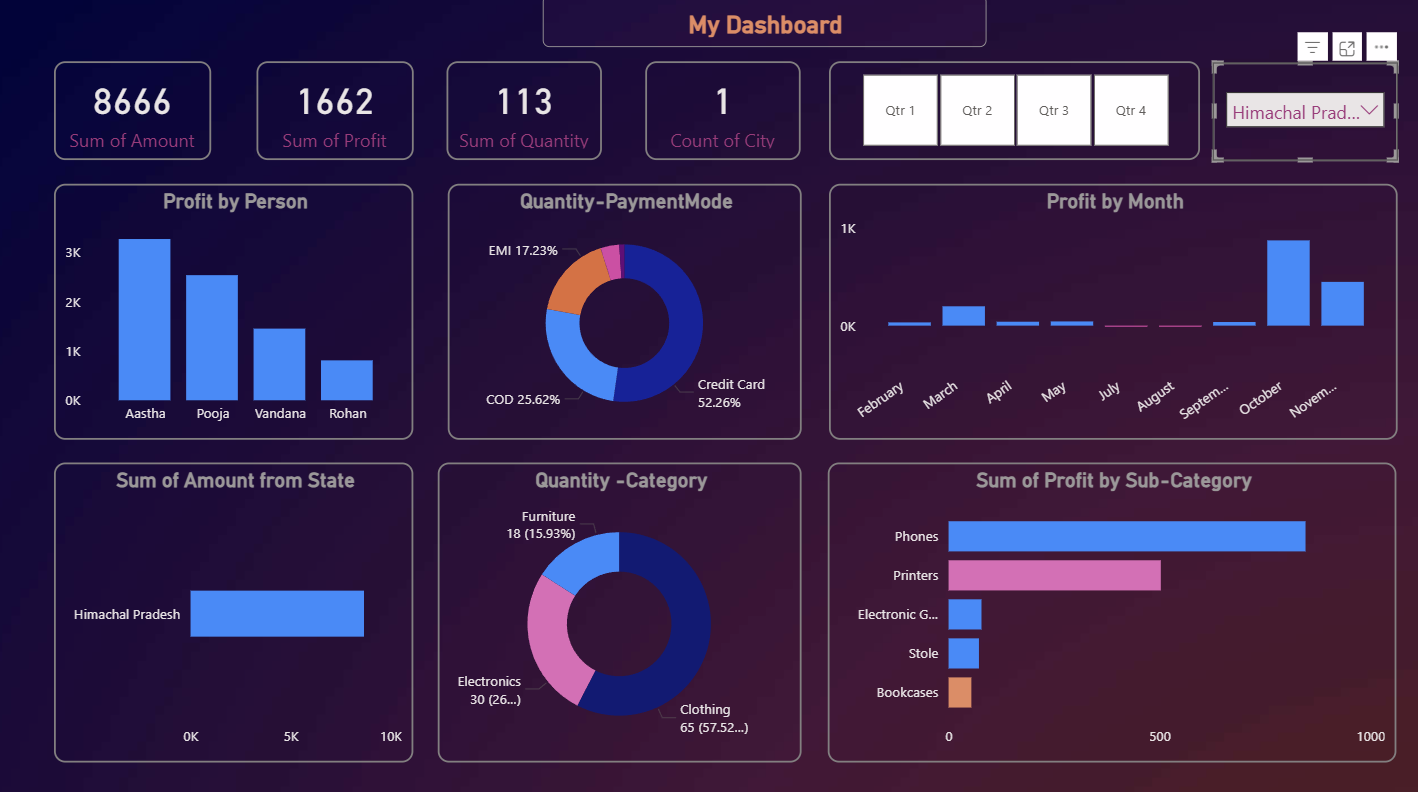

The dashboard page shown, as its layout file describes it:
{"tool":"powerbi","page":{"name":"Page 1","canvas":[1280,720],"ordinal":0},"visuals":[{"type":"textbox","title":"My Dashboard","box":[488.3,0,395.1,46.6],"z":0},{"type":"clusteredColumnChart","title":"Profit by Month","fields":{"Category":["Orders.Order Date.Variation.Date Hierarchy.Month"],"Y":["Details.Profit"]},"box":[743.6,168.1,506.8,228.2],"z":1000},{"type":"clusteredBarChart","fields":{"Category":["Details.Sub-Category"],"Y":["Details.Profit"]},"box":[742.3,416,506.8,267.5],"z":2000},{"type":"donutChart","title":"Quantity -Category","fields":{"Category":["Details.Category"],"Y":["Details.Quantity"]},"box":[395.1,416,323.9,267.5],"z":3000},{"type":"donutChart","title":"Quantity-PaymentMode","fields":{"Category":["Details.PaymentMode"],"Y":["Details.Amount"]},"box":[403.7,168.1,315.3,228.2],"z":4000},{"type":"clusteredBarChart","title":"Sum of Amount from State","fields":{"Category":["Orders.State"],"Y":["Details.Amount"]},"box":[54,416,320.2,267.5],"z":5000},{"type":"clusteredColumnChart","title":"Profit by Person","fields":{"Category":["Orders.CustomerName"],"Y":["Details.Amount"]},"box":[54,168.1,320.2,228.2],"z":6000},{"type":"card","fields":{"Values":["Details.Amount"]},"box":[53.5,59,140,87.8],"z":7000},{"type":"card","fields":{"Values":["Details.Profit"]},"box":[233.3,59,140,87.8],"z":8000},{"type":"card","fields":{"Values":["Details.Quantity"]},"box":[403.4,59,138.6,87.8],"z":9000},{"type":"card","fields":{"Values":["Orders.City"]},"box":[580.4,59,138.6,87.8],"z":10000},{"type":"slicer","fields":{"Values":["Orders.Order Date.Variation.Date Hierarchy.Quarter"]},"box":[743.7,59,330.7,87.8],"z":11000},{"type":"slicer","fields":{"Values":["Orders.State"]},"box":[1085.4,60,164.7,87.8],"z":12000}]}

Visuals, with their boxes in screenshot pixels (x1, y1, x2, y2):
"My Dashboard" textbox: [537, 0, 980, 45]
"Profit by Month" clusteredColumnChart: [823, 181, 1392, 437]
clusteredBarChart - Details.Sub-Category x Details.Profit: [822, 459, 1391, 760]
"Quantity -Category" donutChart: [432, 459, 796, 760]
"Quantity-PaymentMode" donutChart: [442, 181, 796, 437]
"Sum of Amount from State" clusteredBarChart: [50, 459, 409, 760]
"Profit by Person" clusteredColumnChart: [50, 181, 409, 437]
card - Details.Amount: [49, 59, 206, 157]
card - Details.Profit: [251, 59, 408, 157]
card - Details.Quantity: [442, 59, 597, 157]
card - Orders.City: [640, 59, 796, 157]
slicer - Orders.Order Date.Variation.Date Hierarchy.Quarter: [823, 59, 1195, 157]
slicer - Orders.State: [1207, 60, 1392, 158]
